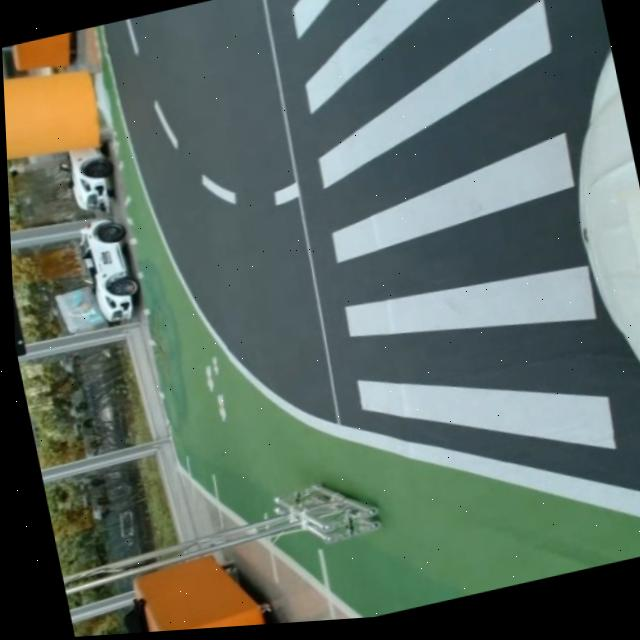traffic-light: (6, 126, 32, 360)
